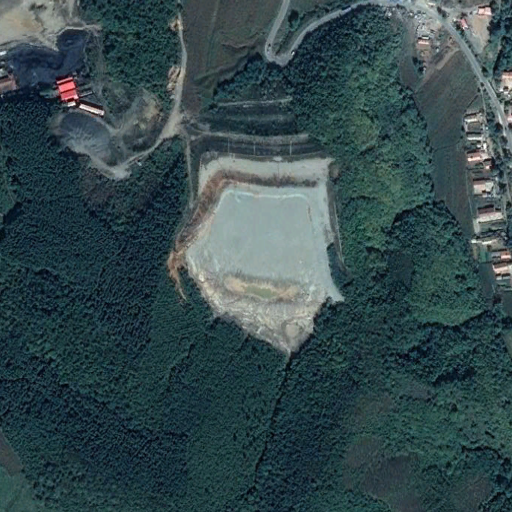tp: (181, 98, 346, 355)
